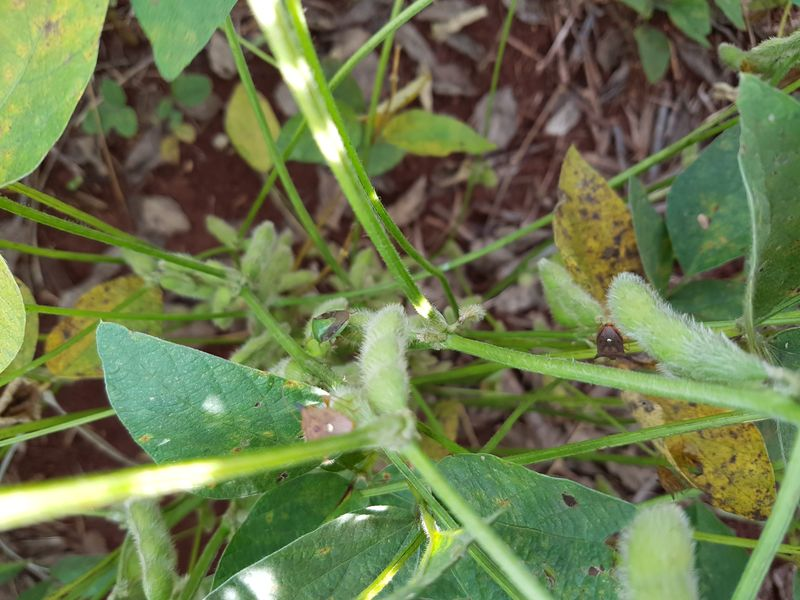Edessa_meditabunda: (293, 295, 372, 362)
Euschistus_heros_adulto: (580, 313, 644, 372)
